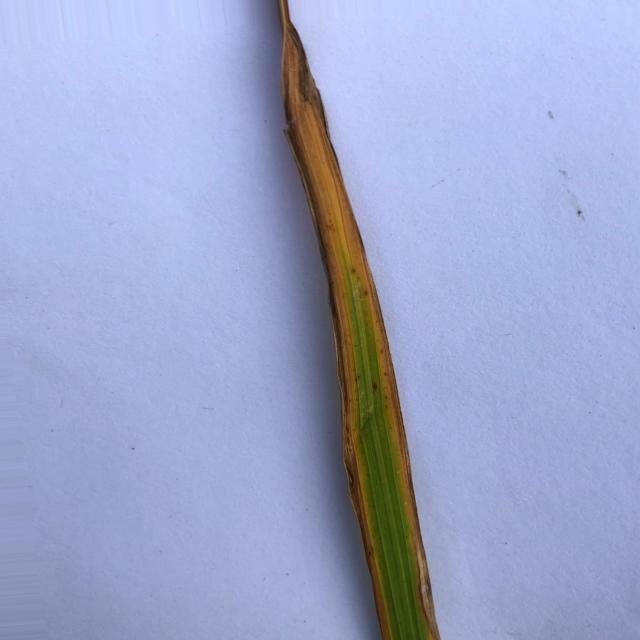Rice Tungro: (279, 0, 373, 285), (368, 289, 404, 431), (328, 285, 338, 351), (337, 359, 344, 431)
